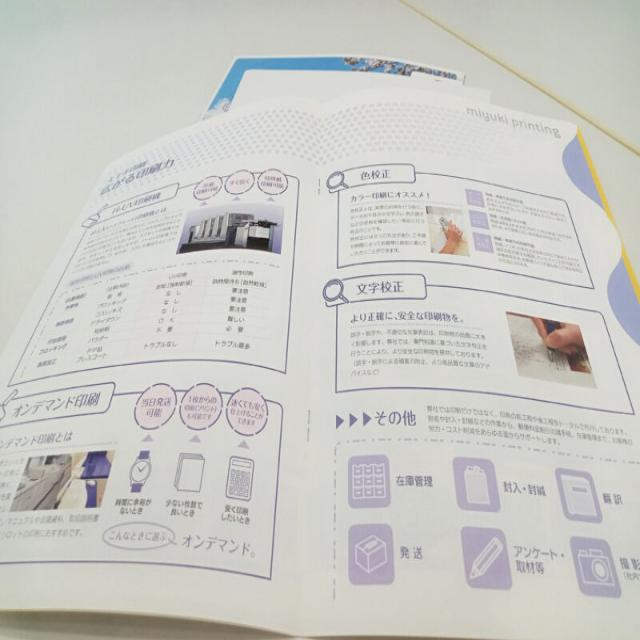paper: (0, 91, 640, 640), (201, 48, 482, 109)
